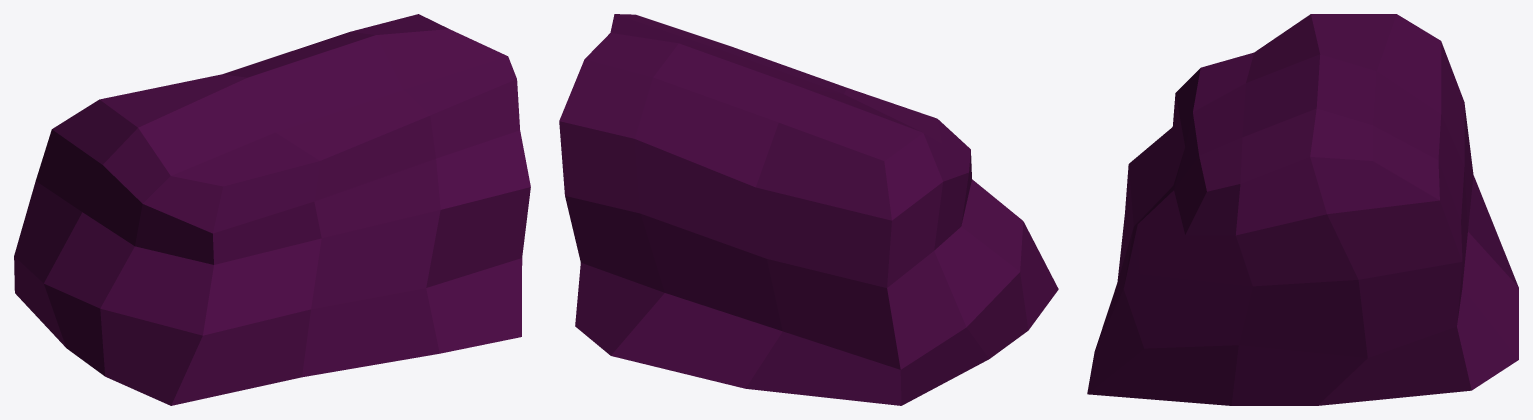
File: Mo_LargeBoulder01.fbx
3 views of the same model, side by side, from view 1: azimuth 30°, elevation 25°; view 2: azimuth 150°, elevation 25°; view 3: azimuth 270°, elevation 25° (orthographic). The views are drawn at different scales.
Visible parts, largest first — view 1: Cube; view 2: Cube; view 3: Cube.
Part boxes in pixels (<box>): Cube: <box>14,14,530,405</box>; Cube: <box>559,14,1058,405</box>; Cube: <box>1087,14,1518,405</box>.
Size of the model in its own units: 4069 by 2274 by 3367.
